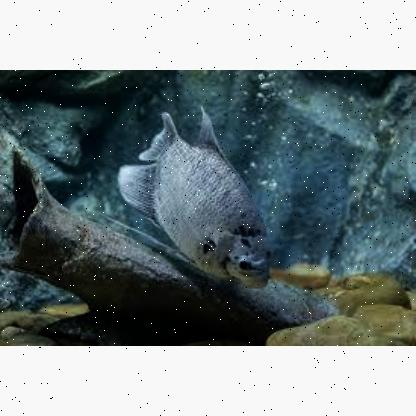gurame: (120, 114, 276, 288)
